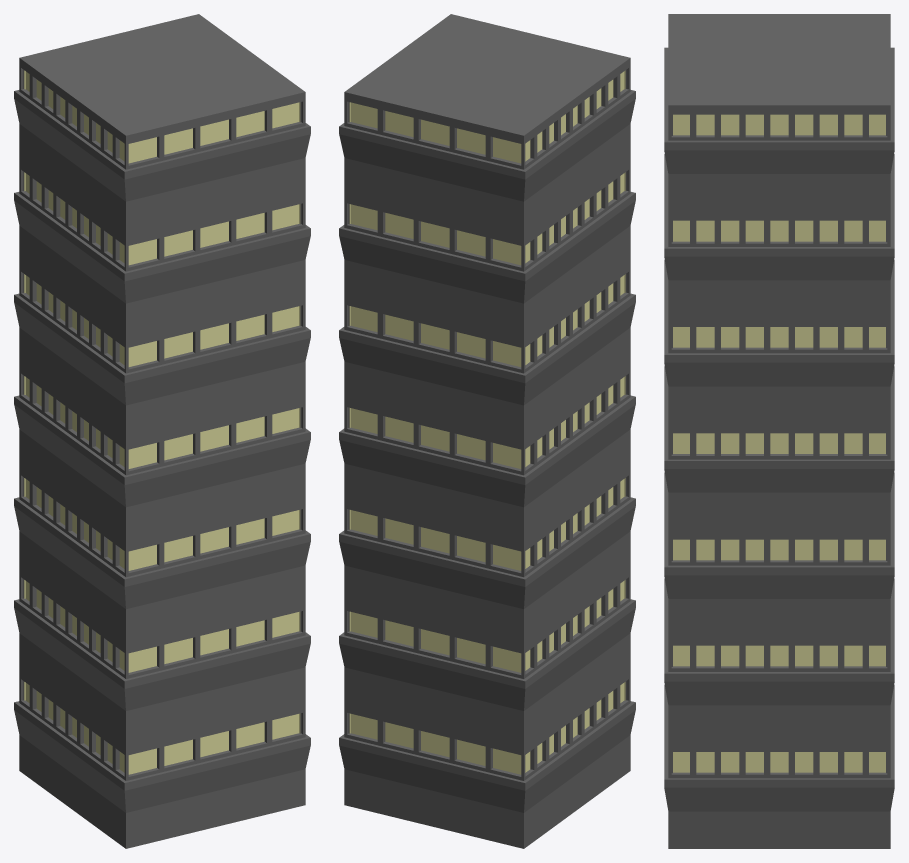
File: Building 5.fbx
3 renders of one model, left to right at view 1: azimuth 30°, elevation 25°; view 2: azimuth 150°, elevation 25°; view 3: azimuth 270°, elevation 25°, orthographic. The views are drawn at different scales.
Parts seen in each view (by area): view 1: Cube.004; view 2: Cube.004; view 3: Cube.004.
Boxes of the visible parts, box(x1,y1,x2,y2) form: Cube.004: box(14, 14, 310, 848); Cube.004: box(339, 14, 635, 848); Cube.004: box(664, 14, 894, 848).
Bounding box in the file's own units: 4858 × 17780 × 4996.
